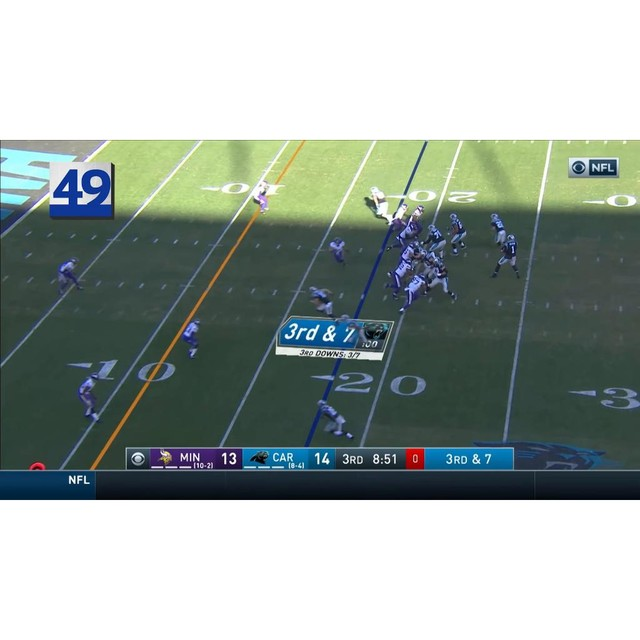american-football-player: (317, 400, 355, 440), (489, 233, 521, 279), (425, 258, 457, 302), (384, 258, 414, 299), (398, 272, 428, 313), (76, 372, 101, 421), (55, 257, 84, 294), (308, 286, 339, 319), (386, 220, 417, 251), (365, 185, 390, 223), (447, 212, 468, 255), (181, 318, 202, 360), (386, 200, 409, 237), (424, 223, 447, 257), (251, 181, 272, 214), (406, 204, 425, 240), (489, 213, 507, 250), (328, 236, 348, 266)
